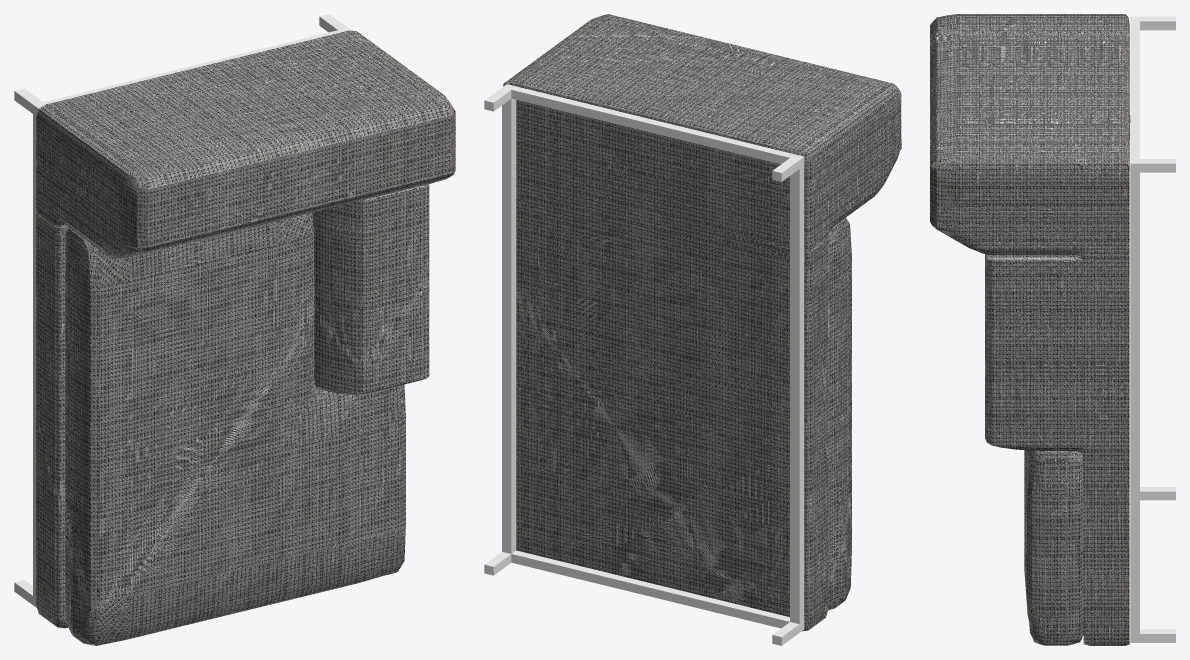
3 views of the same model, side by side, from view 1: azimuth 30°, elevation 25°; view 2: azimuth 150°, elevation 25°; view 3: azimuth 270°, elevation 25° (orthographic). The views are drawn at different scales.
Bounding box in the file's own units: 1.12 × 1.69 × 0.77.
